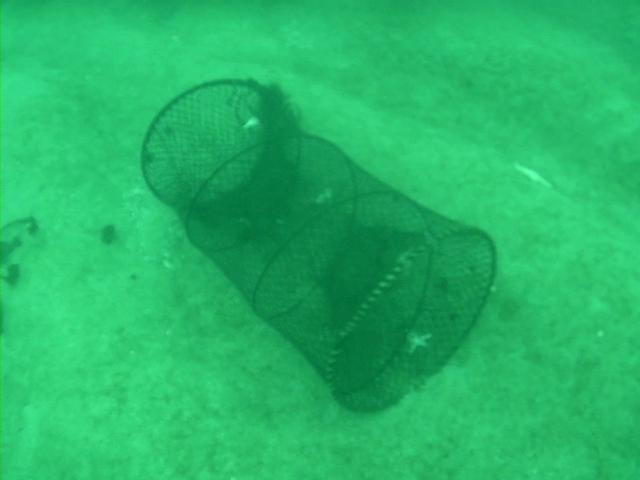spring fish trap: (137, 76, 496, 413)
